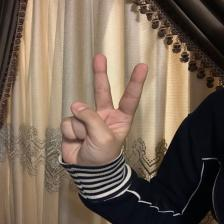two: (54, 54, 150, 183)
